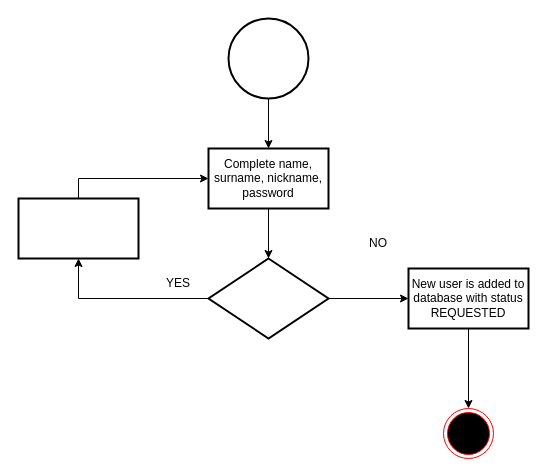
Image size: 546x476. Some labels were removed from this diagram. Each missing label, with the box of its shape:
Display error: (17, 197, 139, 259)
Is nickname used?: (207, 257, 329, 339)
